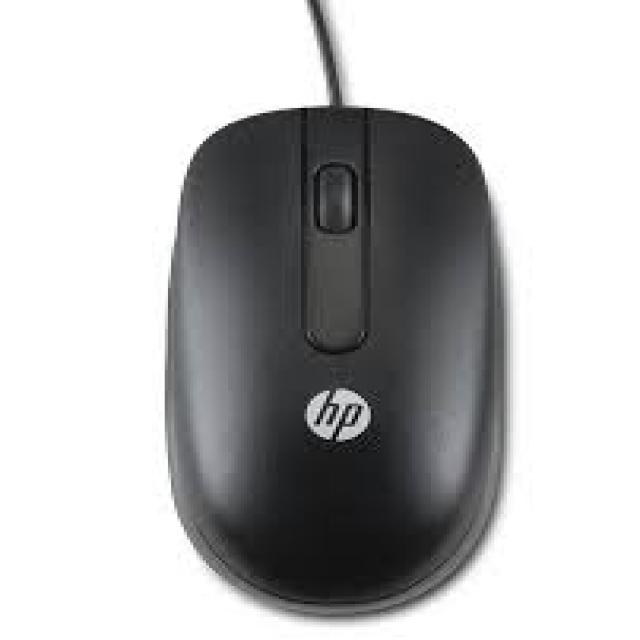others: (165, 90, 535, 630)
